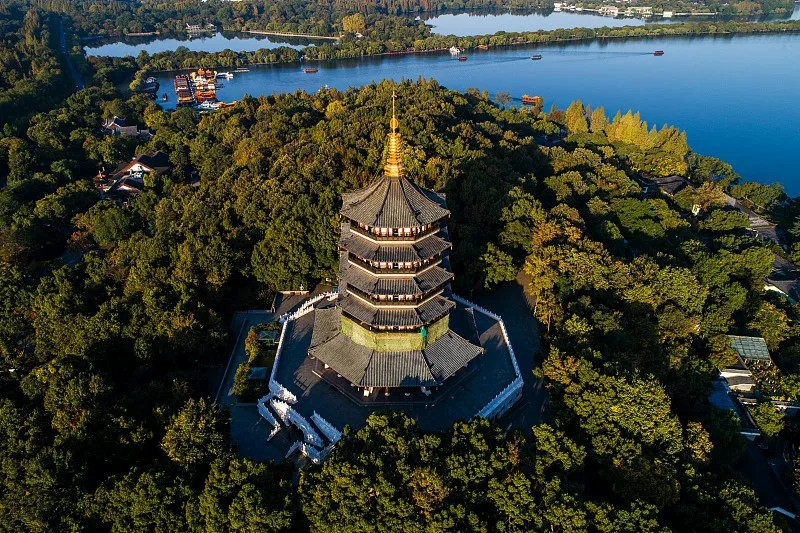Leifeng: (306, 84, 486, 411)
